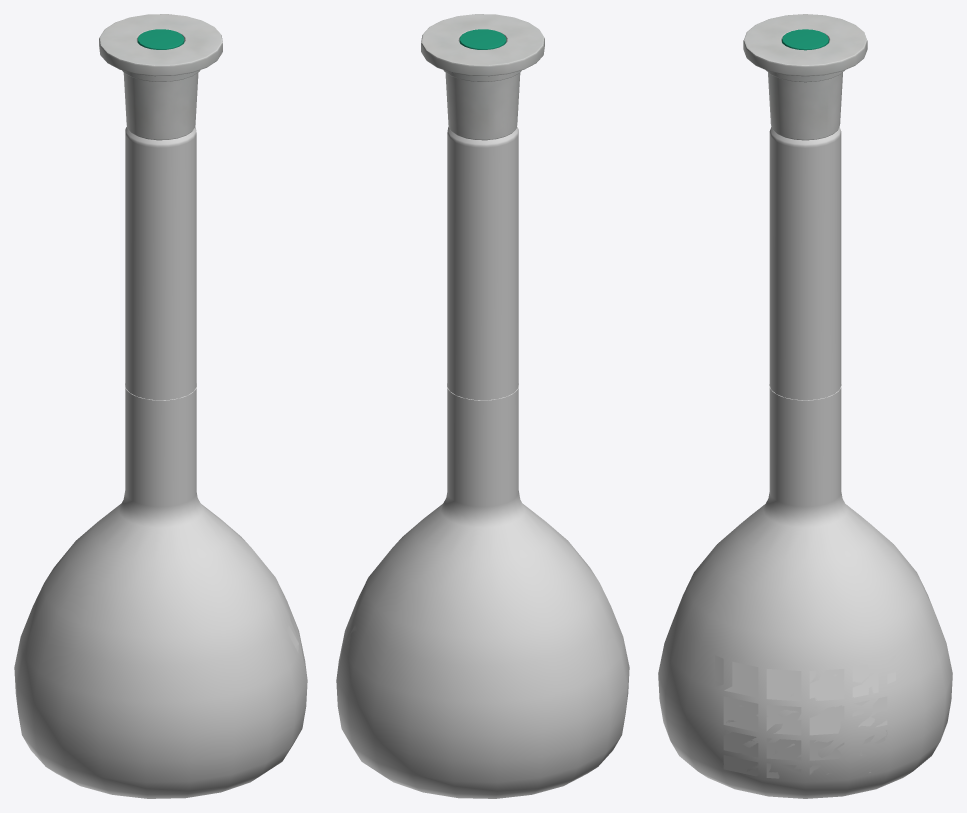
Rendered from volumetric_flask.glb.
3 views of the same model, side by side, from view 1: azimuth 30°, elevation 25°; view 2: azimuth 150°, elevation 25°; view 3: azimuth 270°, elevation 25° (orthographic).
Visible parts, largest first — view 1: flask, lid; view 2: flask, lid; view 3: flask, lid, scale.
Part boxes in pixels (x1,y1,x2,y2): flask: [14, 127, 307, 798]; lid: [99, 14, 222, 140]; flask: [336, 127, 629, 798]; lid: [421, 14, 544, 140]; flask: [658, 127, 952, 798]; lid: [743, 14, 867, 140]; scale: [715, 655, 895, 778].
Bounding box in the file's own units: 0.0979 × 0.2613 × 0.0979.
1 material, 1 textured.
